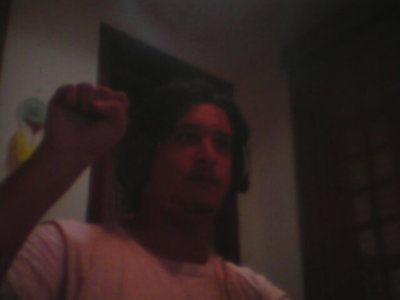closedhandfront: (41, 72, 139, 164)
